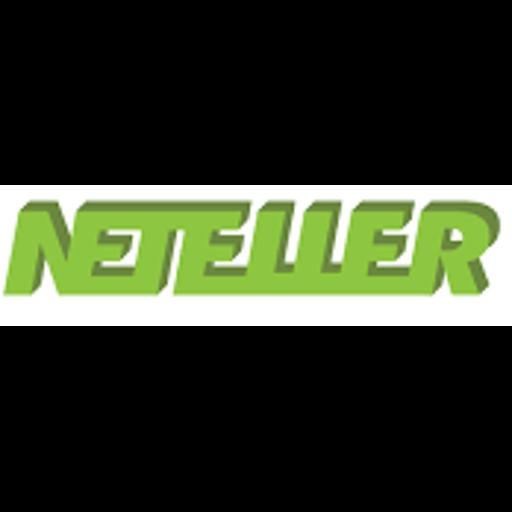Neteller: (0, 185, 512, 326)
